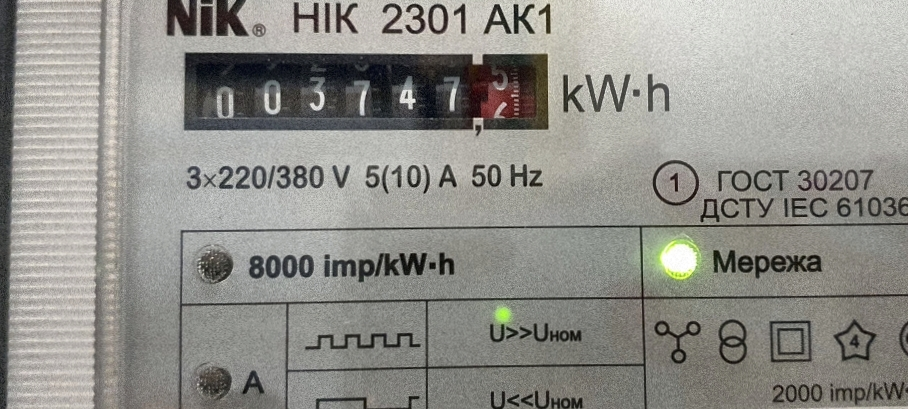0: (261, 76, 281, 115), (213, 84, 235, 119)
3: (307, 74, 326, 111)
4: (396, 72, 417, 112)
5: (489, 62, 509, 91)
6: (490, 98, 508, 119)
7: (439, 72, 462, 112), (351, 77, 371, 116)
screen: (173, 37, 563, 148)
